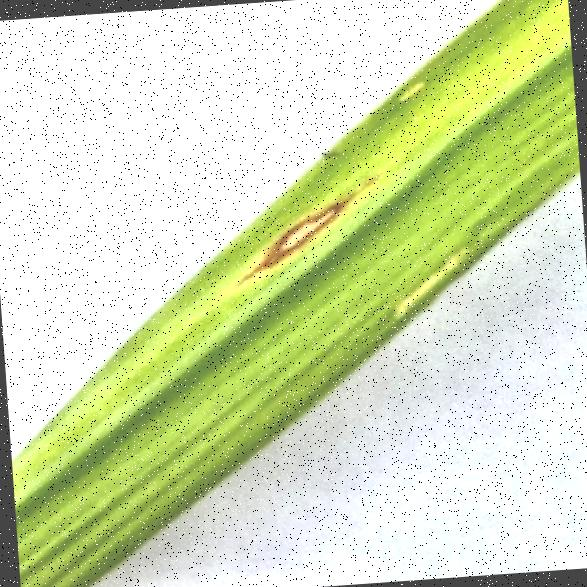Leaf_smut: (228, 160, 407, 330)
